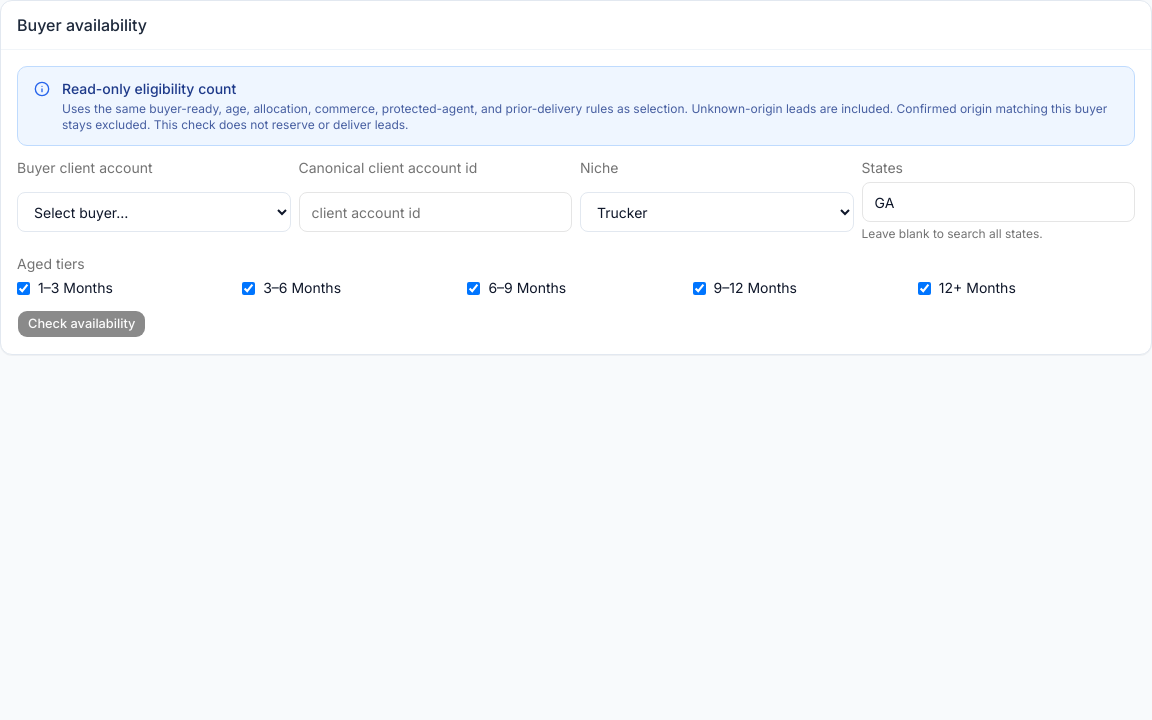
BuyerAvailabilityPanel › labels a finished multi-pass nationwide count as complete
In the field with test id "buyer-availability-client-id": (435, 212) top-left (298, 192), bottom-right (572, 232), type "client_jr_laird"
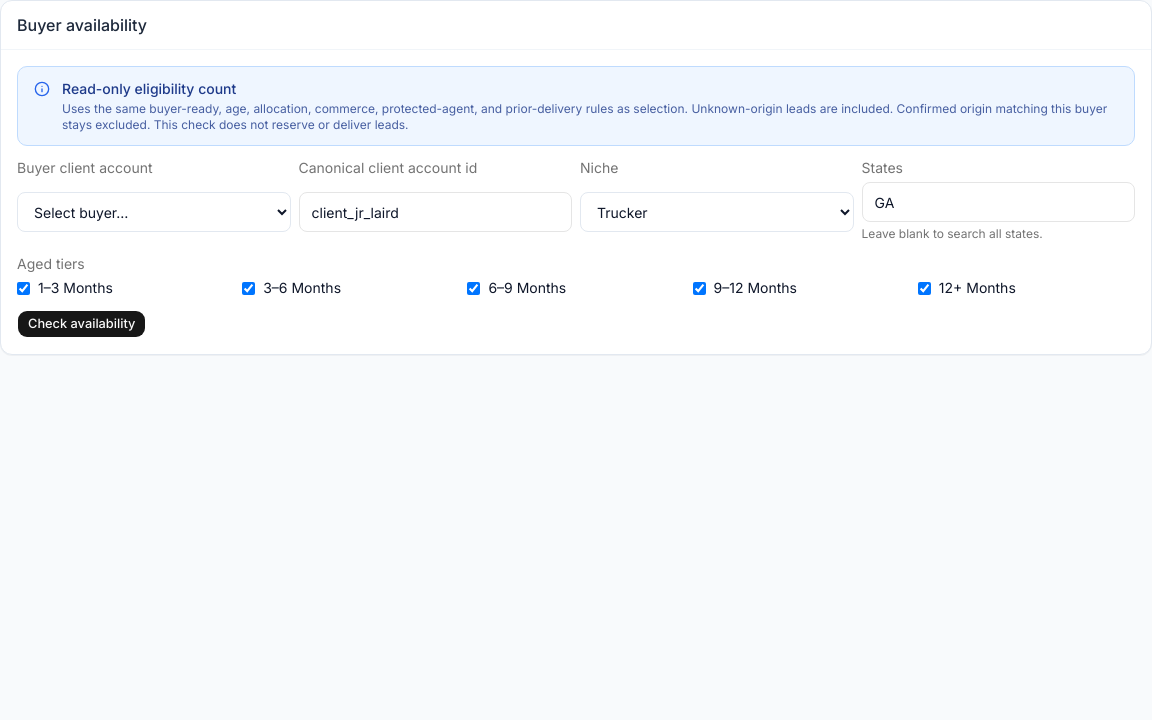
Clear the field with test id "buyer-availability-states": (998, 202) top-left (862, 182), bottom-right (1135, 222)
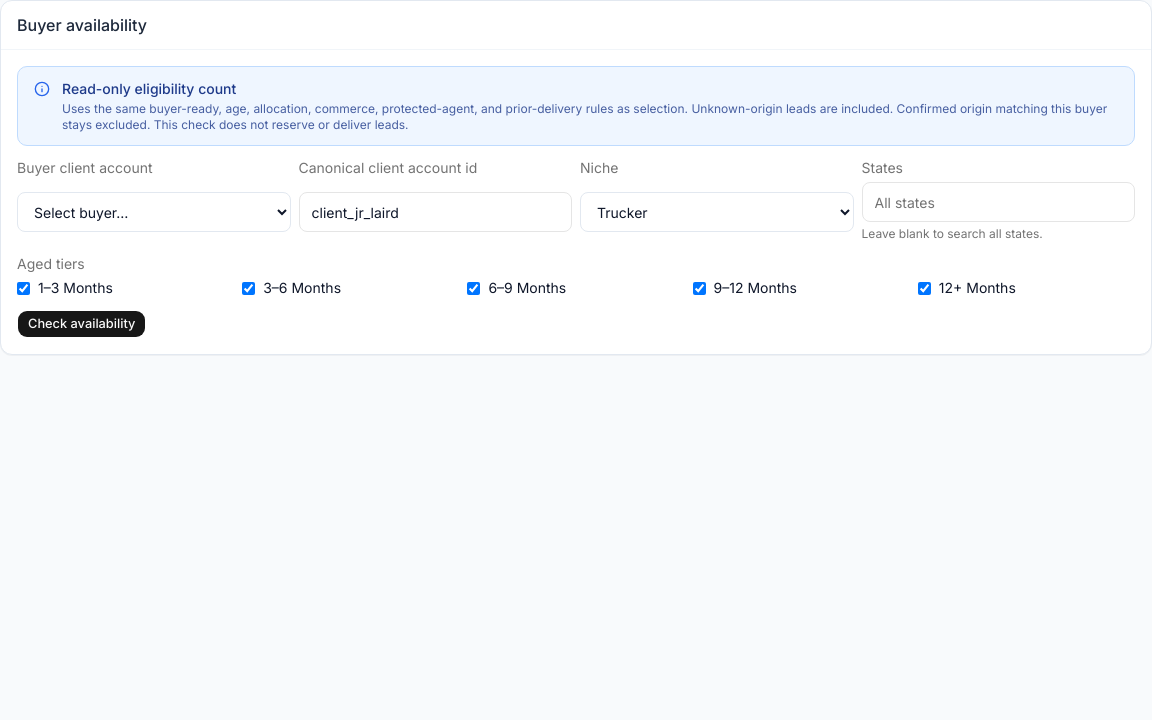
Click the button with test id "buyer-availability-submit": (82, 324) top-left (17, 310), bottom-right (146, 338)
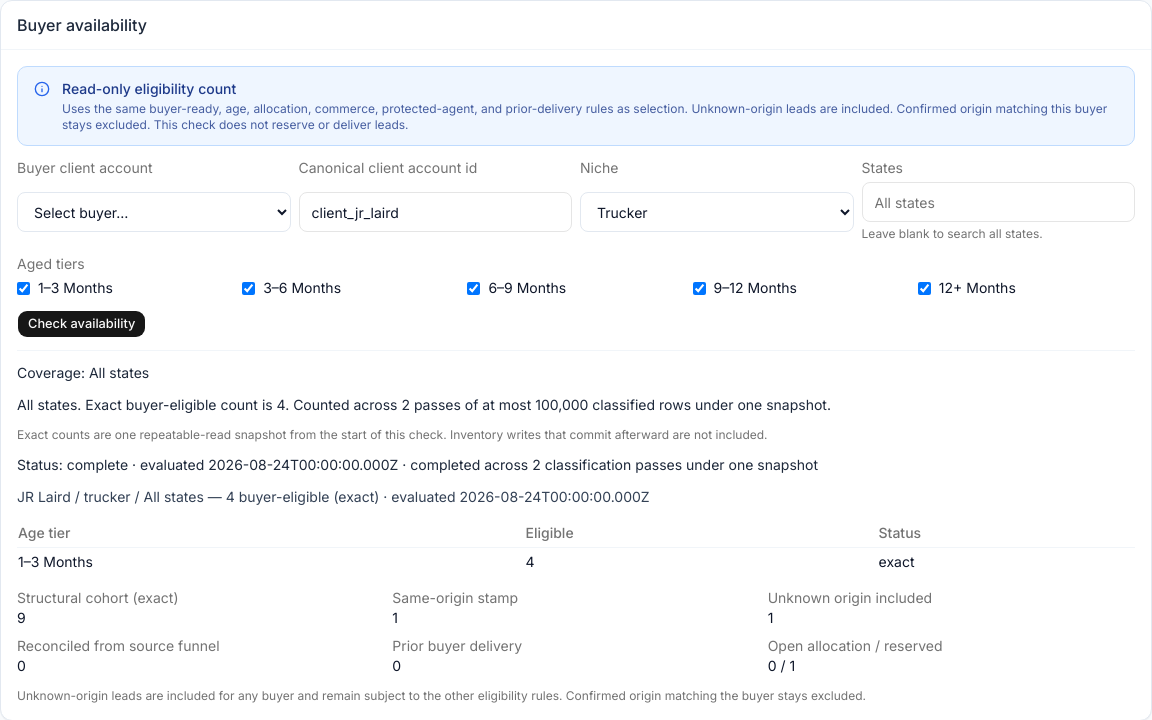
Expected: the text with test id "buyer-availability-total" shows "All states", top-left (144, 488), bottom-right (204, 505)
Expected: the text with test id "buyer-availability-total" shows "4 buyer-eligible", top-left (17, 488), bottom-right (650, 505)
Expected: the text with test id "buyer-availability-total" shows "(exact)", top-left (330, 488), bottom-right (379, 505)
